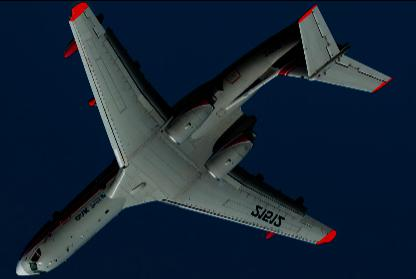B52: (16, 1, 394, 276)
